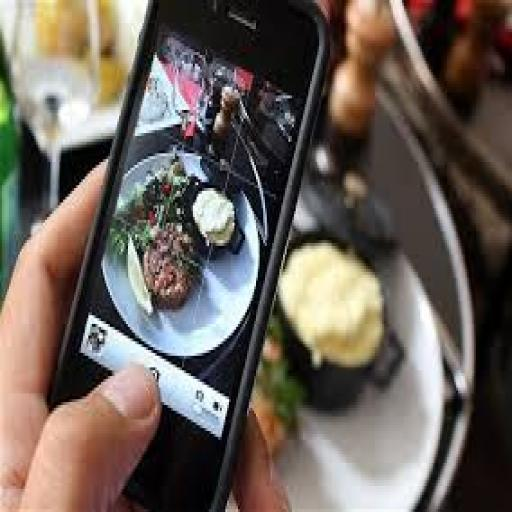phone: (58, 0, 288, 512)
